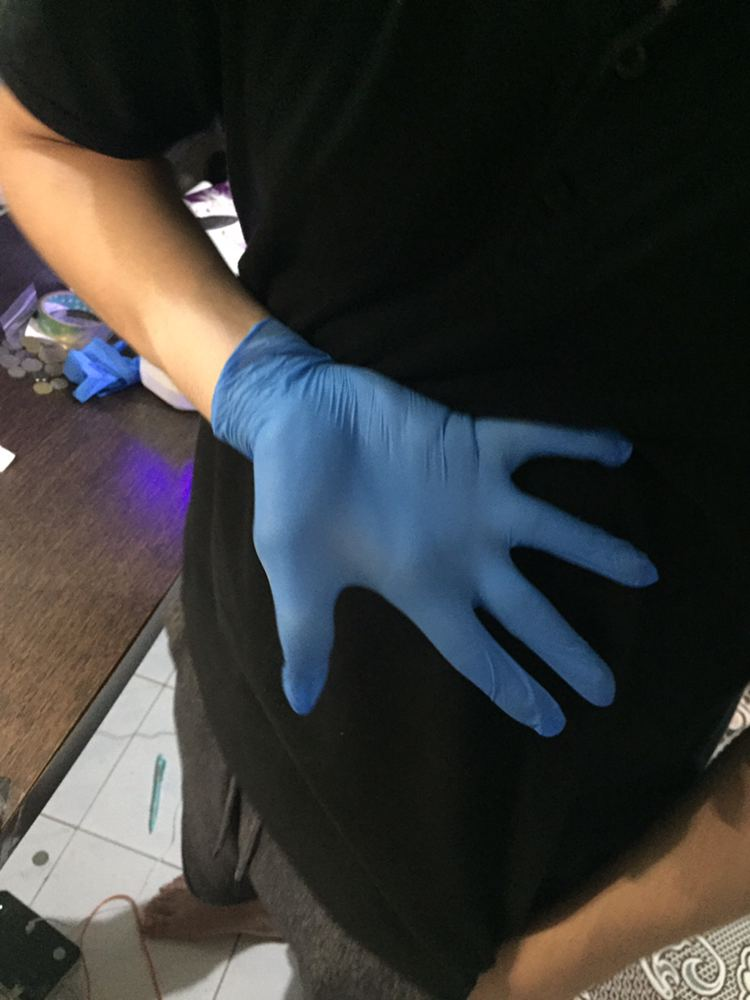glove: (255, 329, 669, 768)
